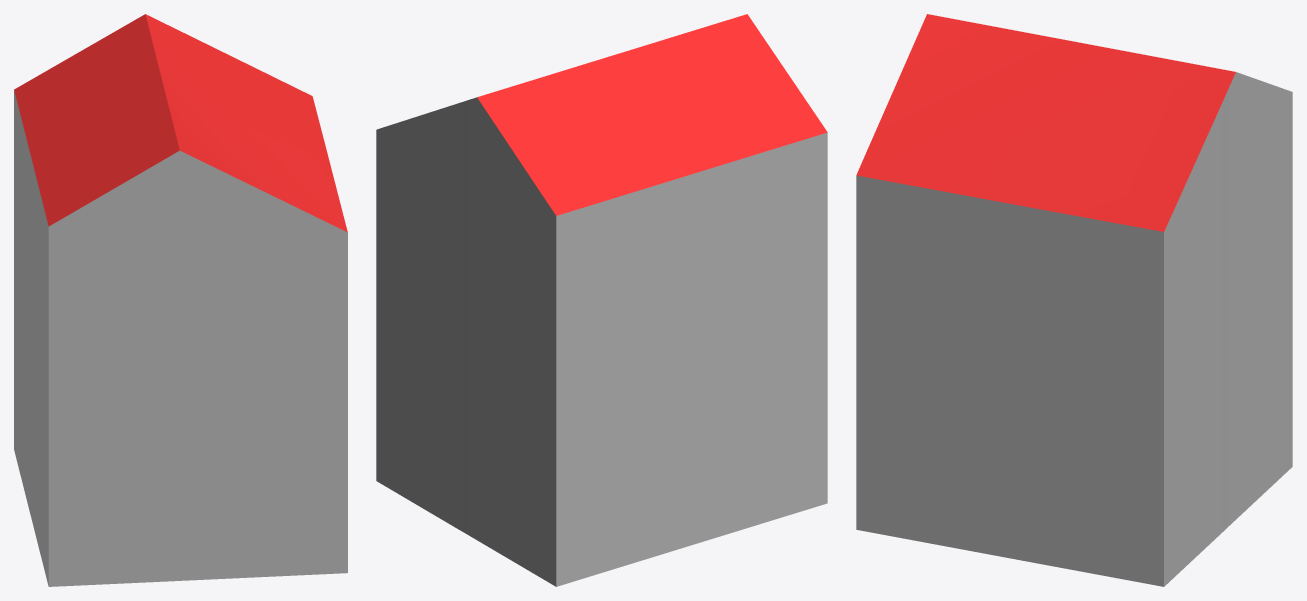
Rendered from DEBY_LOD2_4907149.dae.
3 views of the same model, side by side, from view 1: azimuth 30°, elevation 25°; view 2: azimuth 150°, elevation 25°; view 3: azimuth 270°, elevation 25° (orthographic). The views are drawn at different scales.
Size of the model in its own units: 18.58 by 19.21 by 21.75.
